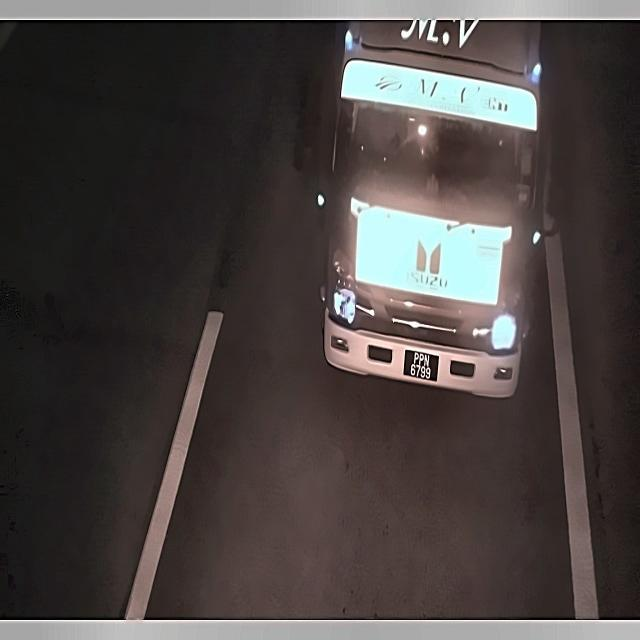car: (400, 344, 442, 389)
